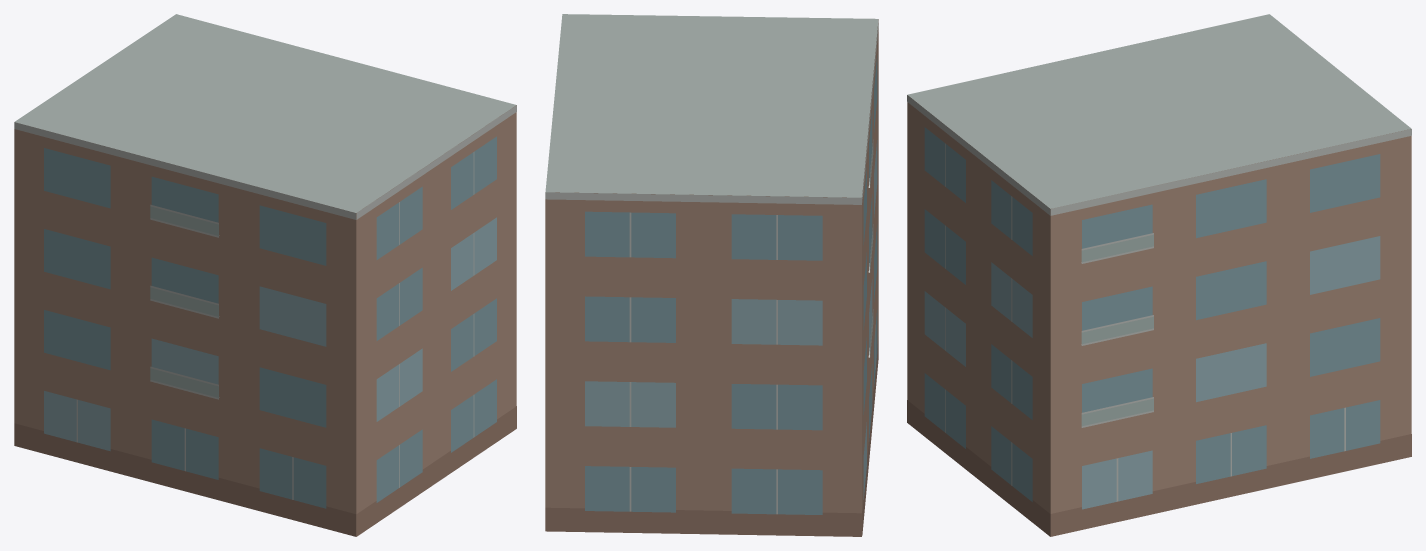
Rendered from survey-upis-32741613.glb.
The picture shows the model from 3 angles, left to right: view 1: azimuth 30°, elevation 25°; view 2: azimuth 150°, elevation 25°; view 3: azimuth 270°, elevation 25°; orthographic projection. The views are drawn at different scales.
Parts seen in each view (by area): view 1: survey-upis-32741613.tmp; view 2: survey-upis-32741613.tmp; view 3: survey-upis-32741613.tmp.
Part boxes in pixels (left/top/right/bottom): survey-upis-32741613.tmp: left=14, top=14, right=516, bottom=536; survey-upis-32741613.tmp: left=545, top=14, right=878, bottom=536; survey-upis-32741613.tmp: left=907, top=14, right=1411, bottom=536.
Size of the model in its own units: 14.54 by 11.4 by 15.91.
